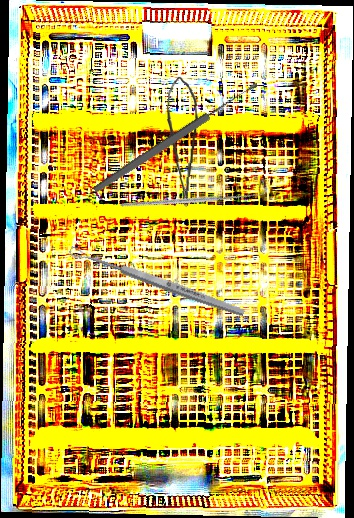Hook Surgical: (119, 133, 269, 261)
Micro Scissor: (158, 74, 202, 208)
Surgical Spoon: (91, 80, 261, 195), (68, 244, 246, 319)
